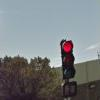Traffic light: (50, 36, 83, 100)
